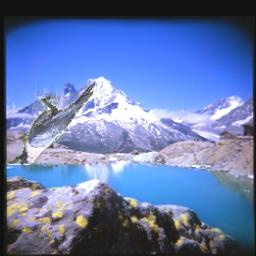Crow: (7, 81, 96, 165)
